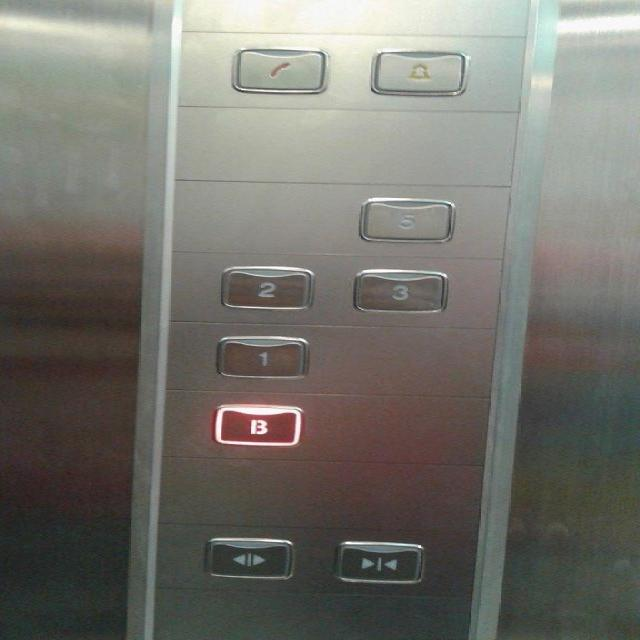1: (214, 337, 309, 379)
2: (221, 265, 312, 310)
3: (352, 268, 448, 313)
5: (356, 195, 458, 242)
B: (212, 403, 304, 446)
alarm: (370, 49, 469, 94)
call: (231, 47, 329, 93)
close: (334, 539, 424, 583)
open: (202, 537, 294, 578)
